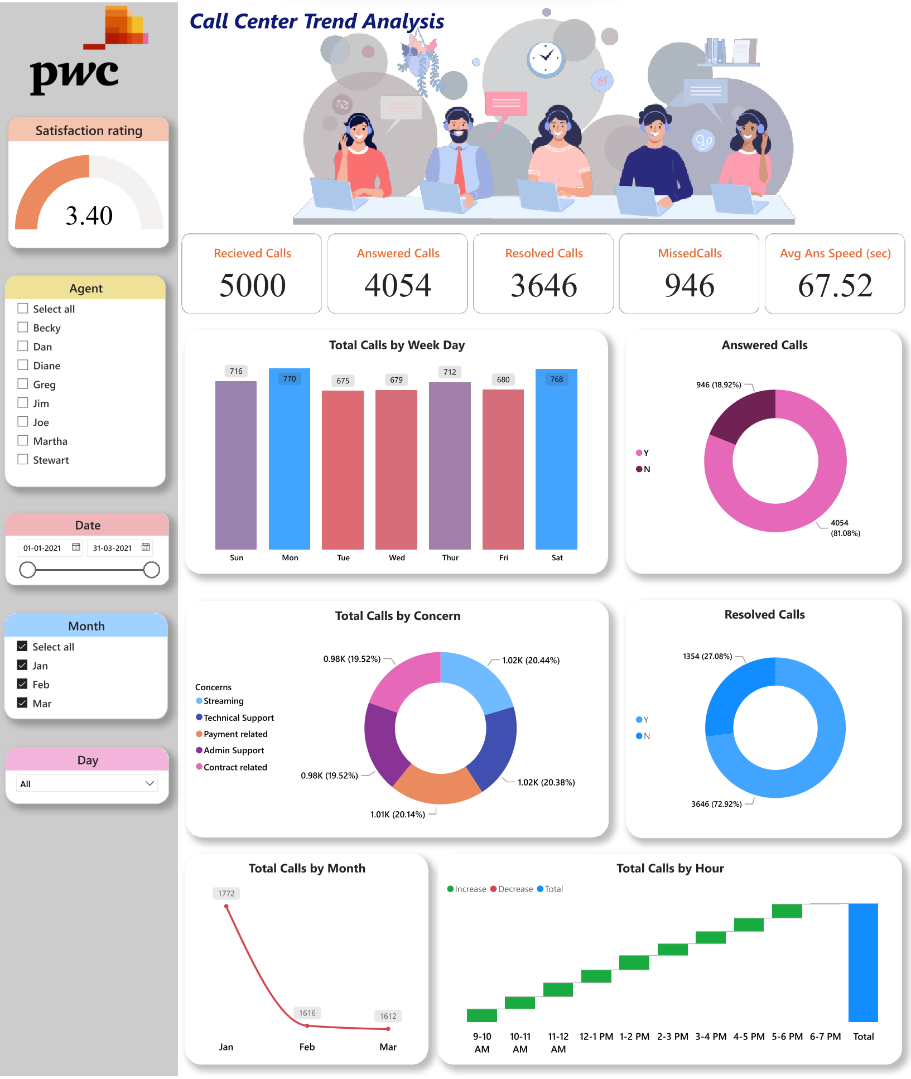

What the dashboard file says about the page in this screenshot:
{"tool":"powerbi","page":{"name":"Page 1","canvas":[1400,1650],"ordinal":0},"visuals":[{"type":"image","box":[400.4,0,871.3,348.5],"z":0},{"type":"cardVisual","fields":{"Data":["Sheet1.Call Id","Sheet1.AnsweredCalls","Sheet1.ResolvedCalls","Sheet1.MissedCalls","Sheet1.Speed of answer in seconds"]},"box":[274,350,1126,134],"z":0},{"type":"donutChart","title":"Total Calls by Concern","fields":{"Category":["Sheet1.Topic"],"Y":["Sheet1.Call Id"]},"box":[285.5,919.6,648.9,363.4],"z":0},{"type":"textbox","box":[934,504,308,48],"z":1000},{"type":"donutChart","title":"Answered Calls","fields":{"Category":["Sheet1.Answered (Y/N)"],"Y":["Sheet1.Answered (Y/N)"]},"box":[962,504,424,374],"z":6000},{"type":"donutChart","title":"Resolved Calls","fields":{"Category":["Sheet1.Resolved"],"Y":["Sheet1.Resolved"]},"box":[962,918,424,366],"z":7000},{"type":"waterfallChart","title":"Total Calls by Hour","fields":{"Category":["Sheet1.Range"],"Y":["Sheet1.Call Id"]},"box":[672,1308,714,324],"z":8000},{"type":"columnChart","title":"Total Calls by Week Day","fields":{"Category":["Sheet1.Day Name"],"Y":["Sheet1.Call Id"]},"box":[284,504,650,374],"z":9000},{"type":"shape","box":[0,0,274.4,1650],"z":9001},{"type":"image","box":[0,0,274.4,148.3],"z":9002},{"type":"lineChart","title":"Total Calls by Month","fields":{"Y":["Sheet1.Call Id"],"Category":["Sheet1.Month Name"]},"box":[284,1308,374,324],"z":9003},{"type":"slicer","title":"Month","fields":{"Values":["Sheet1.Month Name"]},"box":[6,938,252,164],"z":9004},{"type":"slicer","title":"Date","fields":{"Values":["Sheet1.Date"]},"box":[8,784,252,112],"z":9005},{"type":"slicer","title":"Agent","fields":{"Values":["Sheet1.Agent"]},"box":[7.4,419,248.4,326.3],"z":9006},{"type":"slicer","title":"Day","fields":{"Values":["Sheet1.Day Name"]},"box":[8,1144,252,88],"z":9007},{"type":"gauge","title":"Satisfaction rating","fields":{"Y":["Sheet1.Satisfaction rating"]},"box":[12,176,248,202],"z":9008},{"type":"textbox","box":[285.5,0,745.3,74.2],"z":9009}]}

Visuals, with their boxes in screenshot pixels (x1, y1, x2, y2), scaled from the page's 1400x1650 canvas onto the 911x1079 screenshot:
image: bbox(261, 0, 828, 228)
cardVisual - Sheet1.Call Id x Sheet1.AnsweredCalls: bbox(178, 229, 910, 317)
"Total Calls by Concern" donutChart: bbox(186, 601, 608, 839)
textbox: bbox(608, 330, 808, 361)
"Answered Calls" donutChart: bbox(626, 330, 902, 574)
"Resolved Calls" donutChart: bbox(626, 600, 902, 840)
"Total Calls by Hour" waterfallChart: bbox(437, 855, 902, 1067)
"Total Calls by Week Day" columnChart: bbox(185, 330, 608, 574)
shape: bbox(0, 0, 179, 1078)
image: bbox(0, 0, 179, 97)
"Total Calls by Month" lineChart: bbox(185, 855, 428, 1067)
"Month" slicer: bbox(4, 613, 168, 721)
"Date" slicer: bbox(5, 513, 169, 586)
"Agent" slicer: bbox(5, 274, 166, 487)
"Day" slicer: bbox(5, 748, 169, 806)
"Satisfaction rating" gauge: bbox(8, 115, 169, 247)
textbox: bbox(186, 0, 671, 49)
